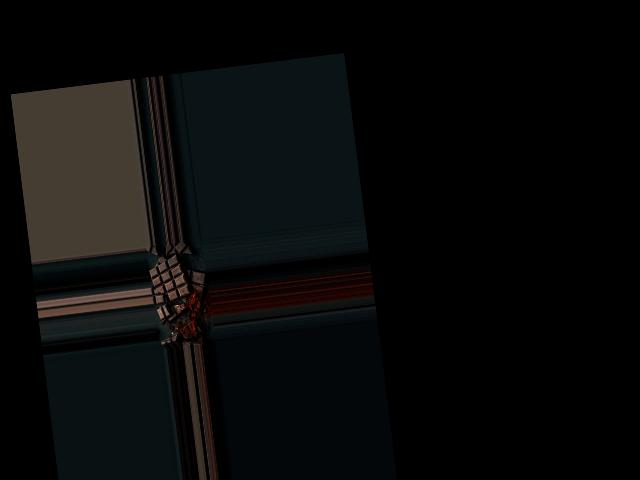chocolate: (147, 252, 192, 303)
